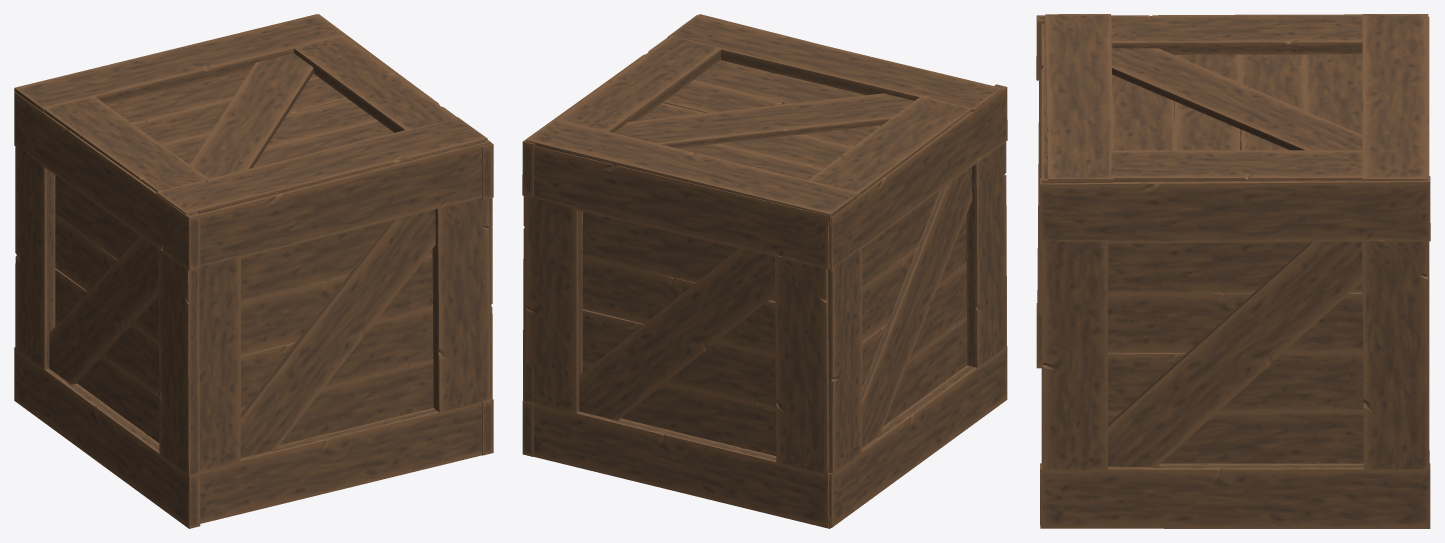
Rendered from Crate.FBX.
3 renders of one model, left to right at view 1: azimuth 30°, elevation 25°; view 2: azimuth 150°, elevation 25°; view 3: azimuth 270°, elevation 25°, orthographic. The views are drawn at different scales.
Parts seen in each view (by area): view 1: PLONKUnwrapped014, PLONKUnwrapped016, PLONKUnwrapped023, PLONKUnwrapped017; view 2: PLONKUnwrapped015, PLONKUnwrapped016, PLONKUnwrapped023, PLONKUnwrapped017; view 3: PLONKUnwrapped017, PLONKUnwrapped023, PLONKUnwrapped016, PLONKUnwrapped014, PLONKUnwrapped015.
Boxes of the visible parts, x1,y1,x2,y2 form: PLONKUnwrapped014: (199,140,490,523); PLONKUnwrapped016: (14,92,200,528); PLONKUnwrapped023: (14,14,487,214); PLONKUnwrapped017: (318,14,493,455); PLONKUnwrapped015: (524,146,829,528); PLONKUnwrapped016: (827,84,1007,527); PLONKUnwrapped023: (526,15,1002,225); PLONKUnwrapped017: (522,37,667,456); PLONKUnwrapped017: (1040,176,1430,528); PLONKUnwrapped023: (1045,14,1428,182); PLONKUnwrapped016: (1036,15,1241,368); PLONKUnwrapped014: (1041,23,1055,467); PLONKUnwrapped015: (1427,16,1429,412).
Size of the model in its own units: 3 by 3 by 2.93.
